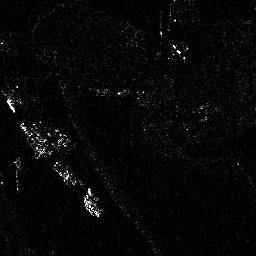ship: (14, 155, 24, 192)
